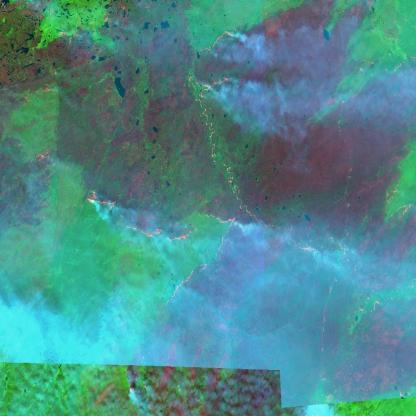fire: (79, 184, 237, 245), (186, 22, 251, 104)
